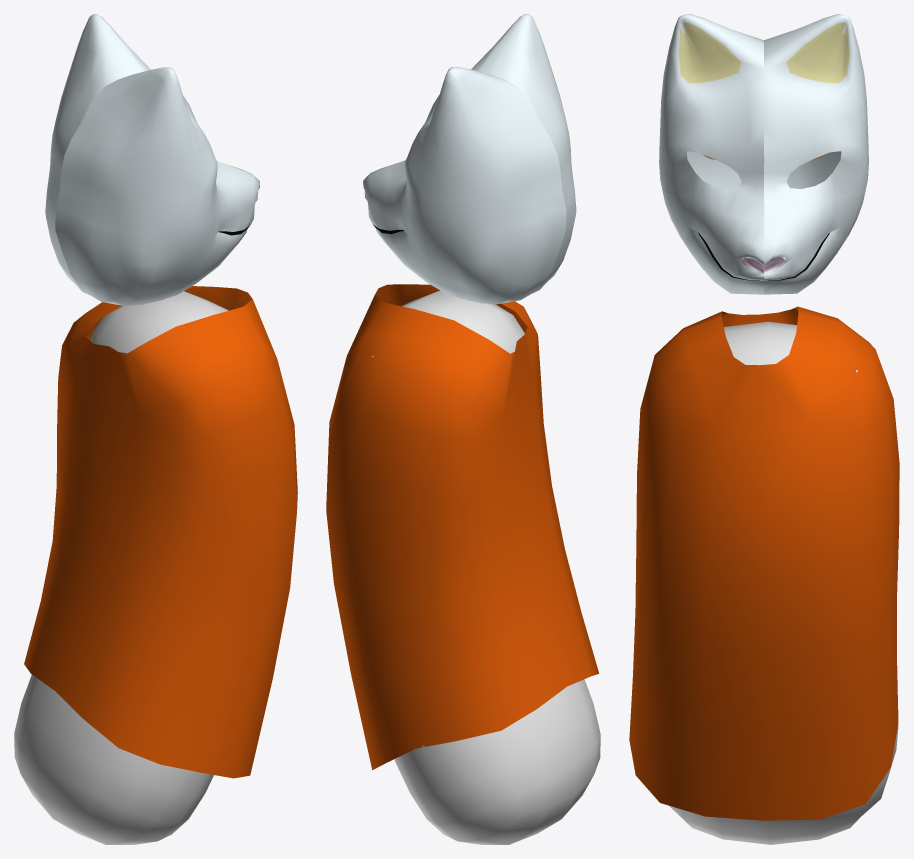
The model's file is NPC 8.fbx.
3 views of the same model, side by side, from view 1: azimuth 30°, elevation 25°; view 2: azimuth 150°, elevation 25°; view 3: azimuth 270°, elevation 25° (orthographic). The views are drawn at different scales.
Visible parts, largest first — view 1: T-shirt.010, Mask.008, body.010; view 2: T-shirt.010, Mask.008, body.010; view 3: T-shirt.010, Mask.008, body.010.
Part boxes in pixels (x1,y1,x2,y2): T-shirt.010: (24, 286, 297, 778); Mask.008: (45, 14, 259, 305); body.010: (14, 291, 228, 844); T-shirt.010: (326, 284, 598, 769); Mask.008: (363, 14, 576, 304); body.010: (372, 290, 600, 844); T-shirt.010: (629, 306, 899, 820); Mask.008: (659, 14, 868, 294); body.010: (669, 321, 898, 844).
Bounding box in the file's own units: 2.26 × 7.21 × 2.12.
